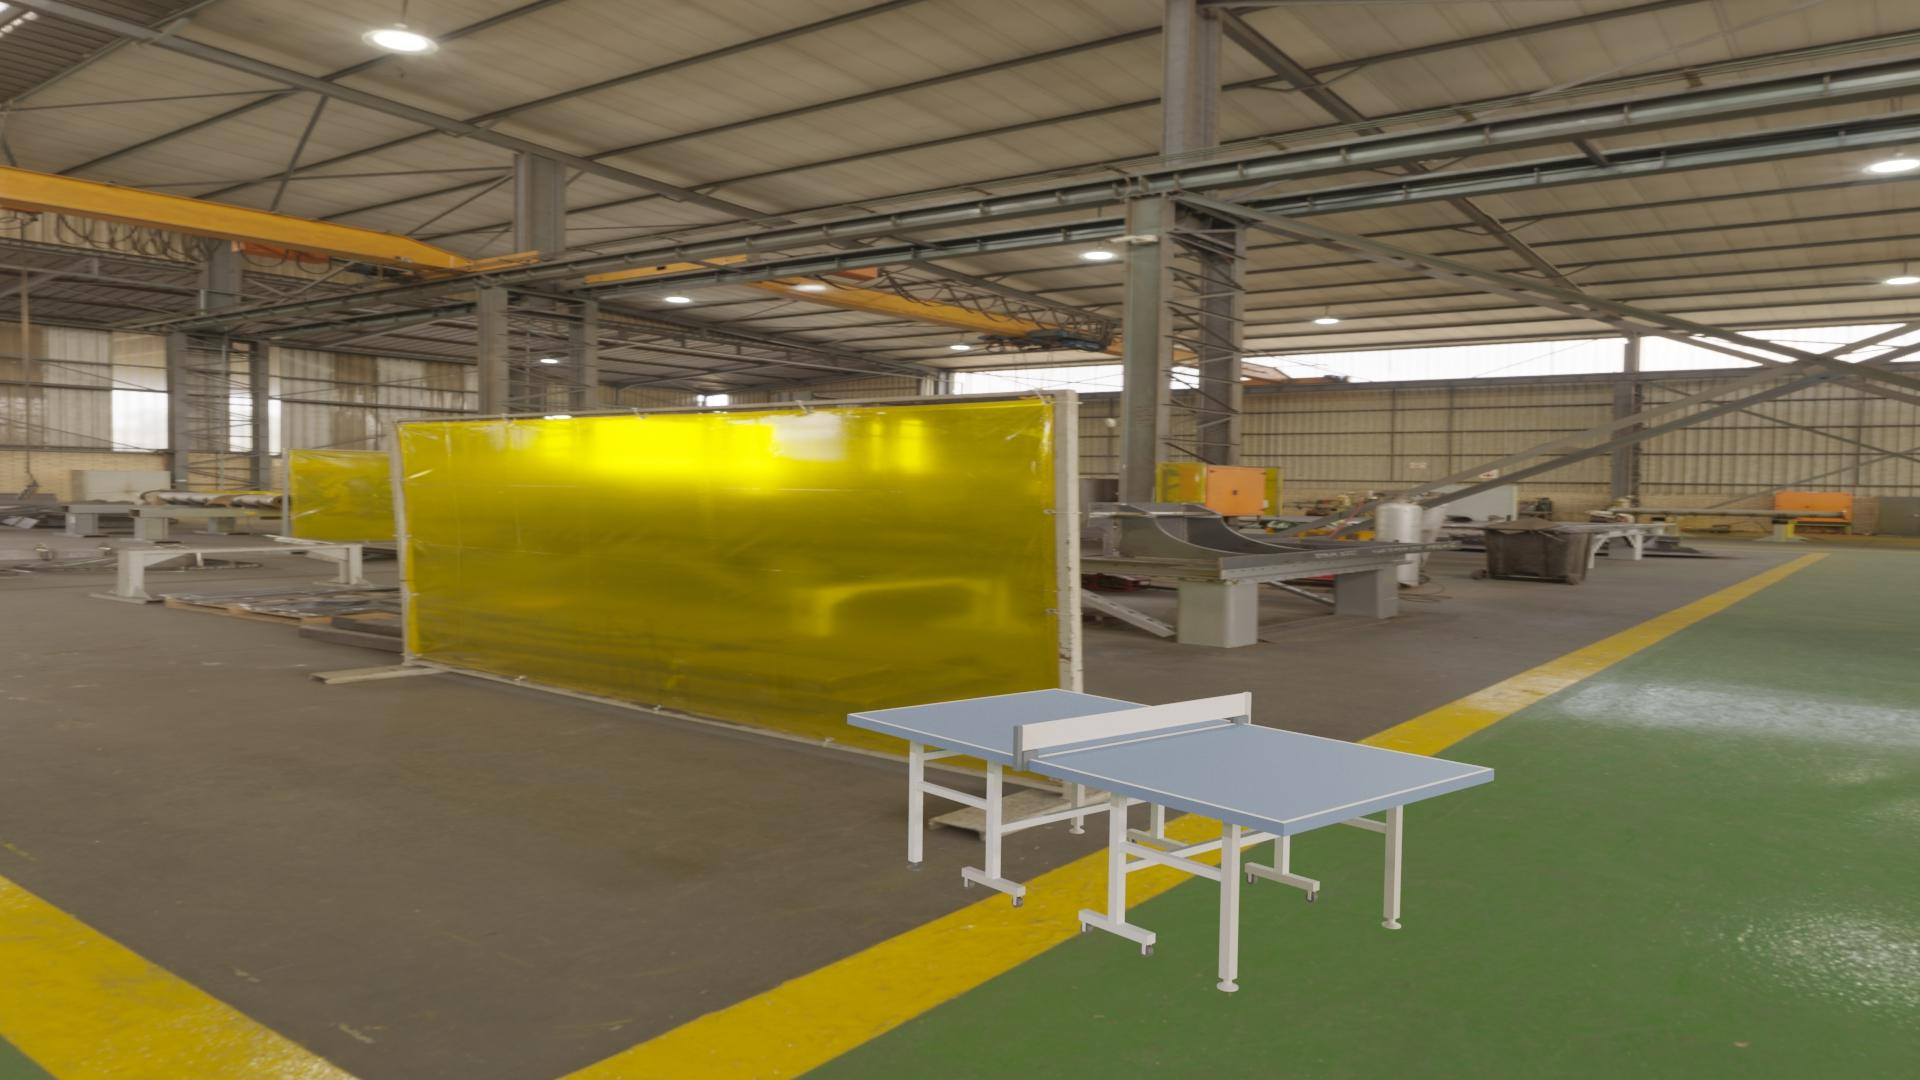table: (853, 690, 1487, 822)
